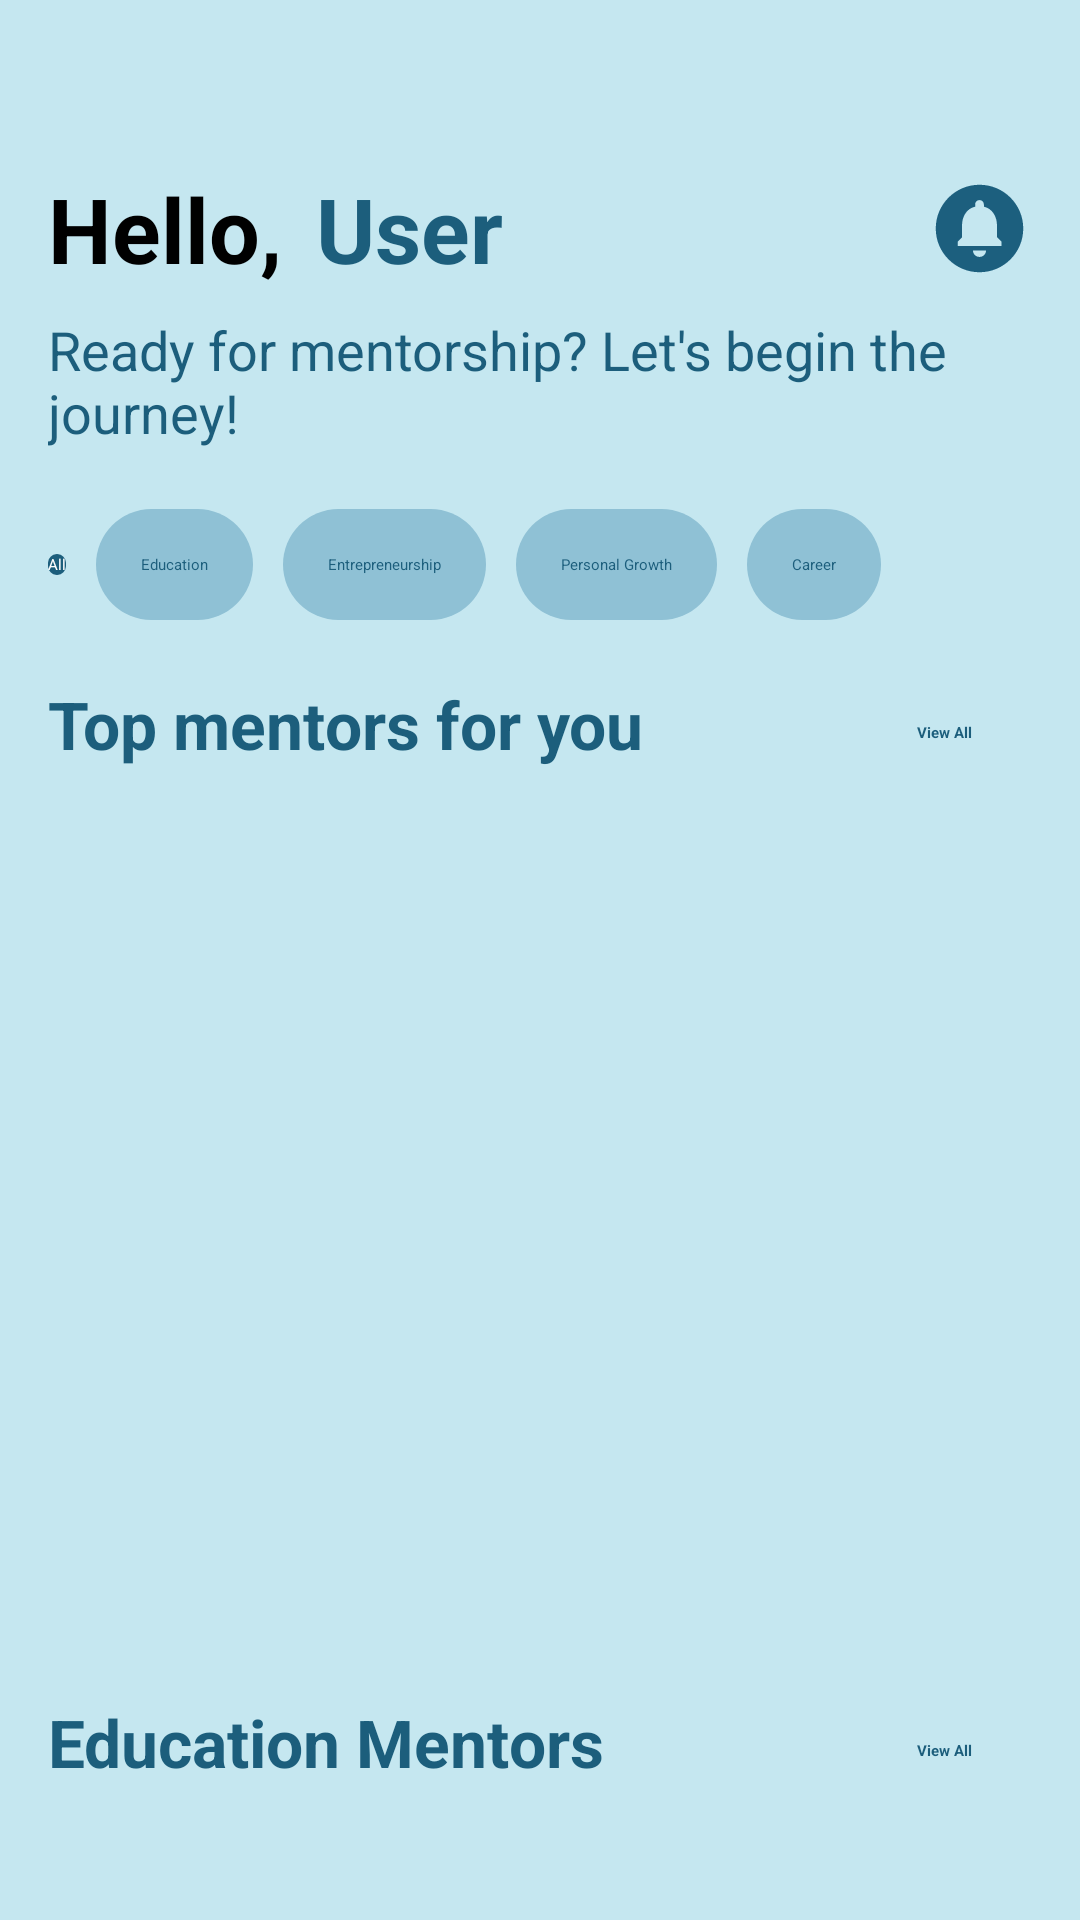

Screen size 1080px x 1920px. Icon name, then its box in pixels as box=[x1, y1, x2, y2]:
notification: box=[935, 184, 1024, 273]
